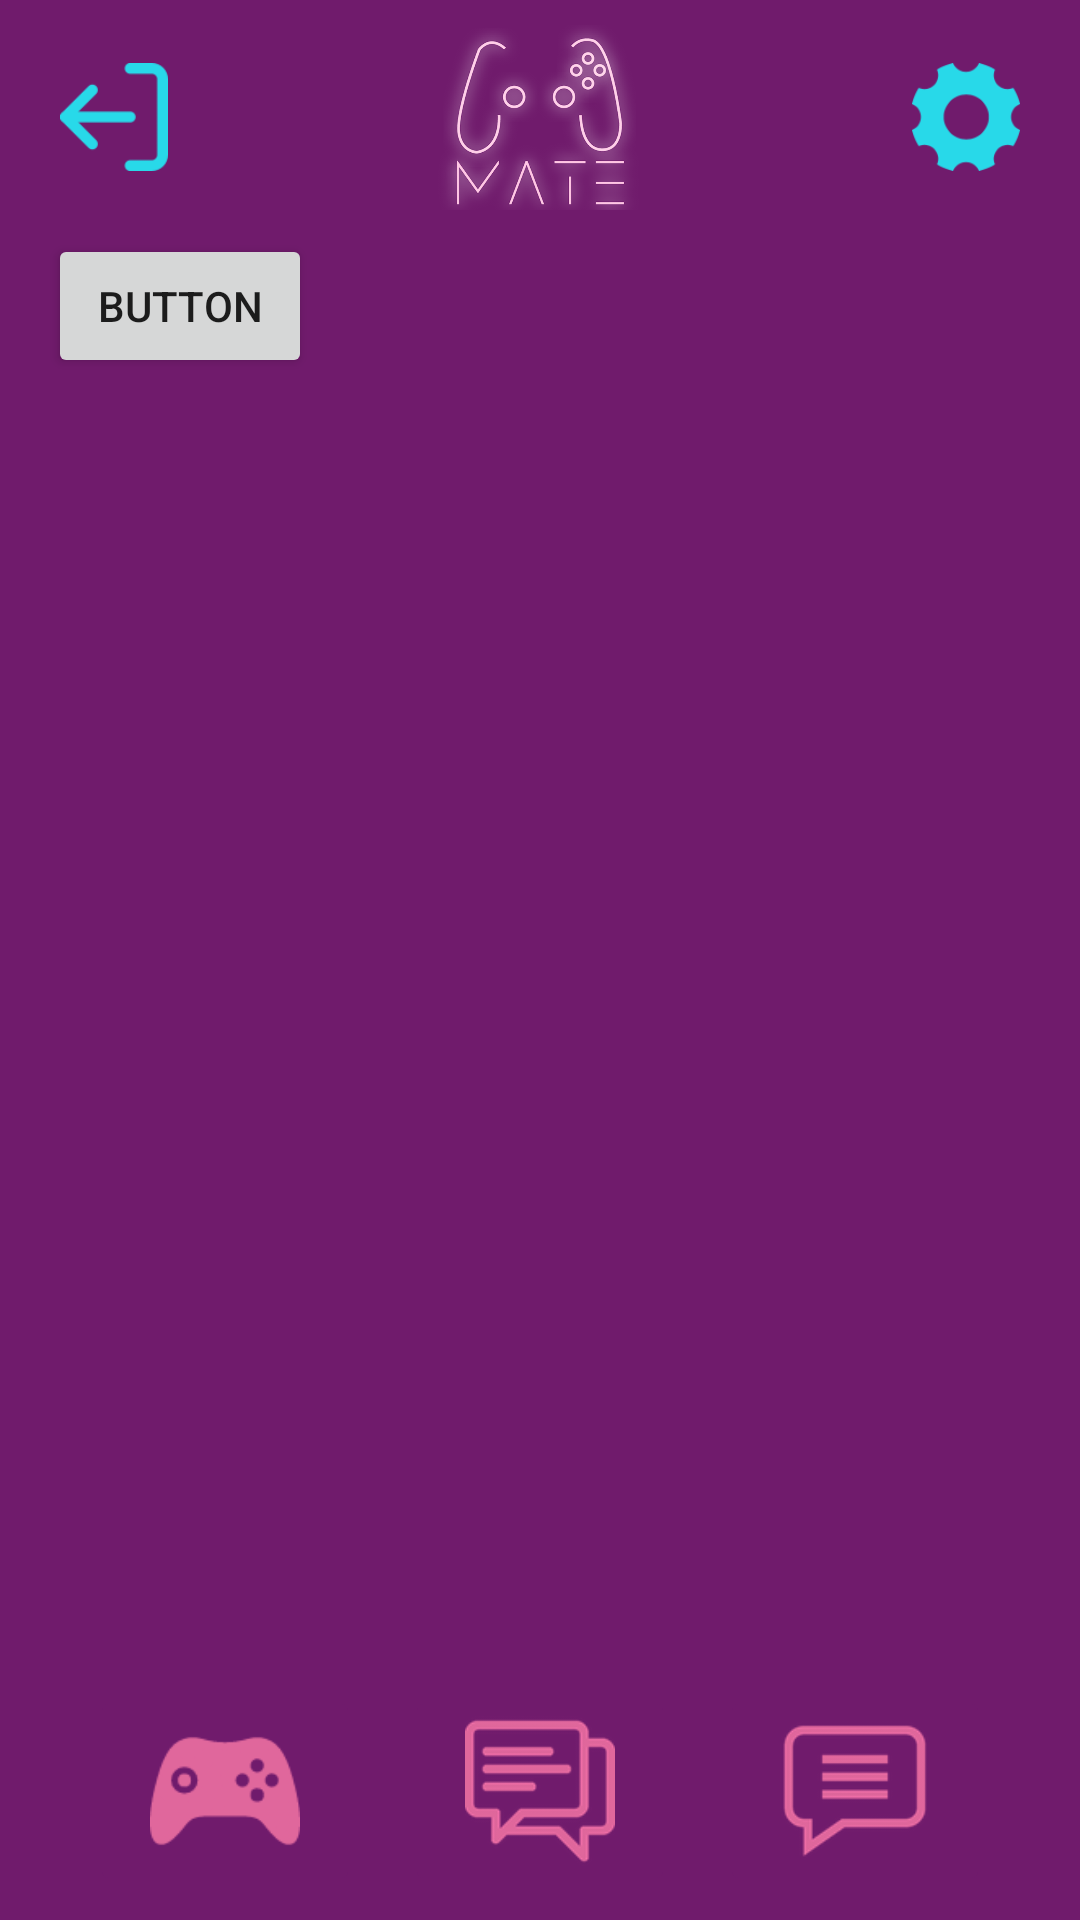

Named icons in this screenshot (1080×1920) and their centers, (x,y):
gamepad: (225,1791)
settings: (966,117)
